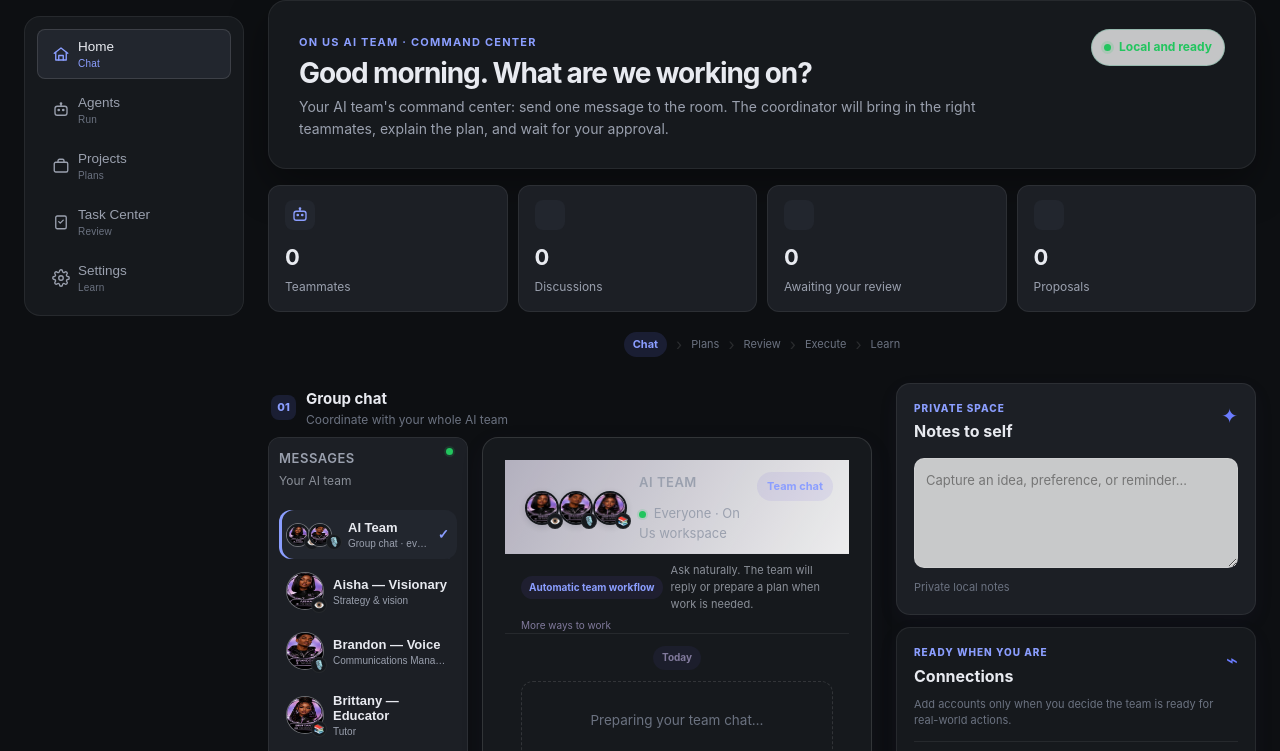
Scenario: Task Center delete › deletes a task via DELETE, refreshes, and removes it from the list
The width and height of the screenshot is (1280, 751).
Step 1. Click the button "Task Center Review" → coordinates (134, 222), box [37,197,231,247]
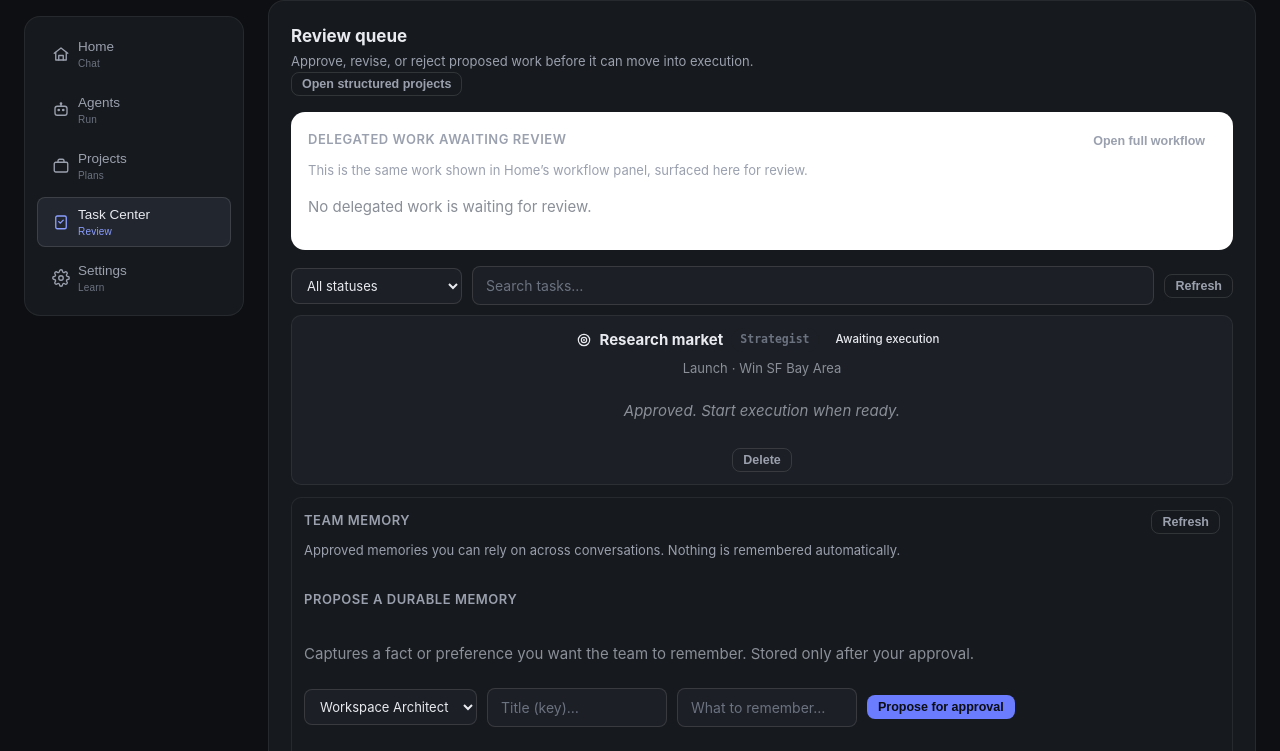
Expected: the text "Research market" is shown, [600,330,723,349]
Expected: the button with test id "delete-task-a1" is shown
Step 2. Click the button with test id "delete-task-a1" → coordinates (762, 460), box [732,448,792,472]
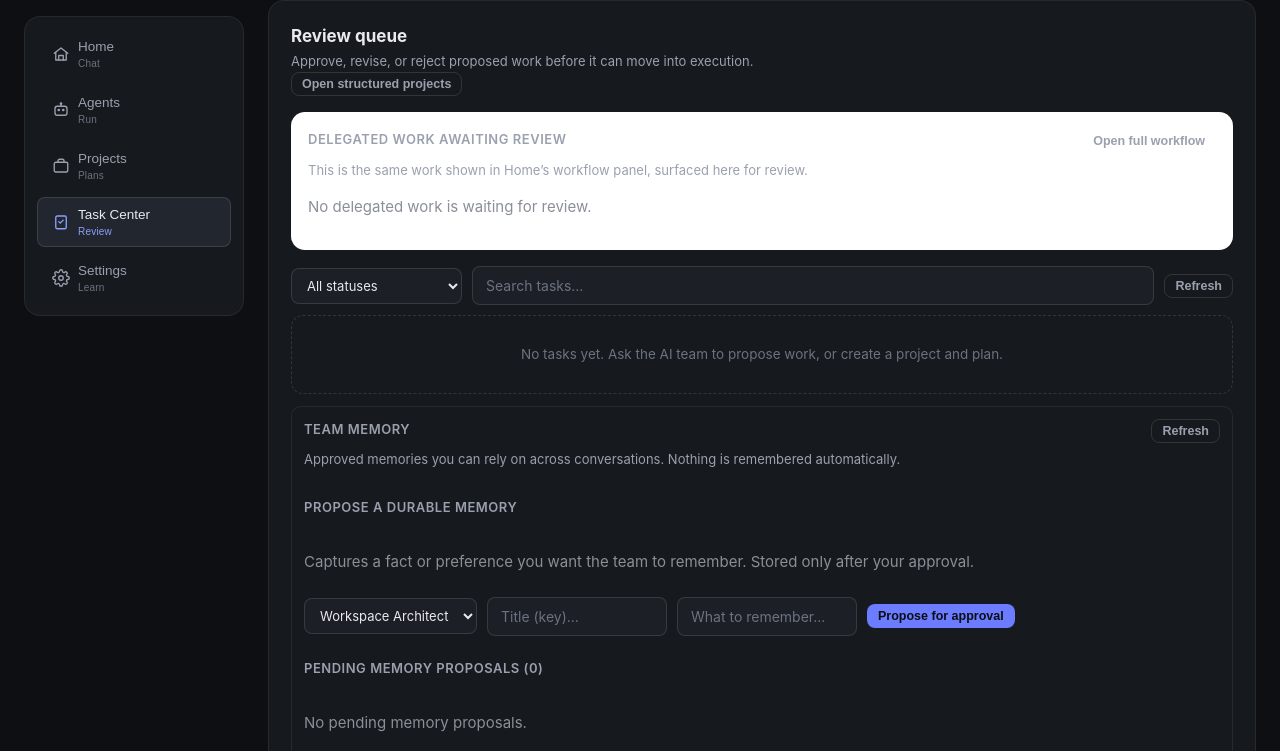
Expected: the text "No tasks yet" is shown, [521,346,1003,362]
